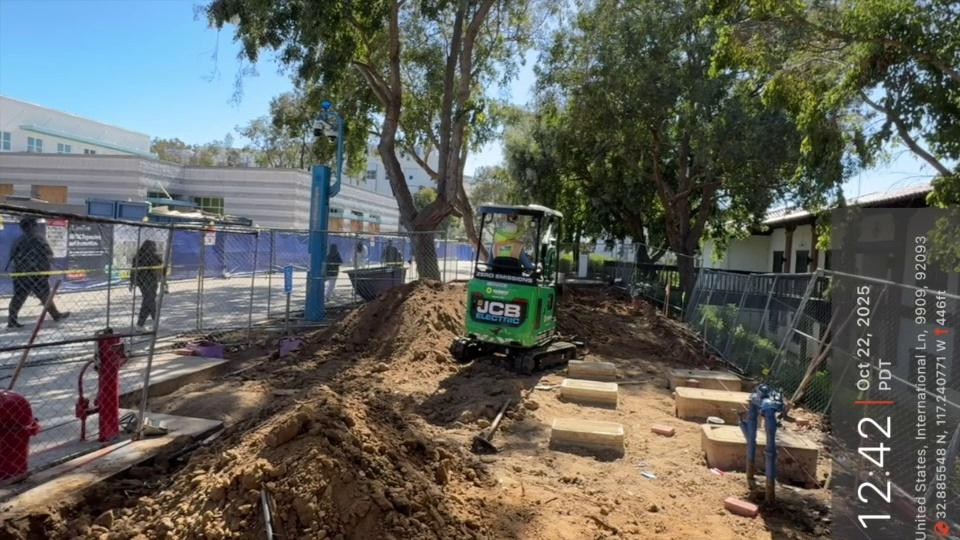Exacavator: (447, 201, 582, 375)
